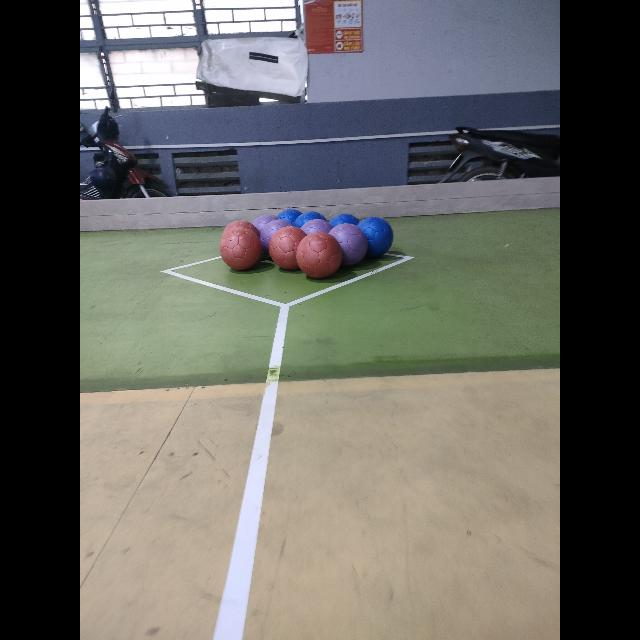B: (358, 217, 392, 257), (329, 212, 359, 242), (296, 212, 330, 236), (277, 208, 301, 232)
P: (330, 223, 368, 264), (259, 220, 291, 252), (302, 219, 332, 251)
R: (296, 232, 342, 278), (220, 225, 262, 269), (270, 226, 308, 270)
